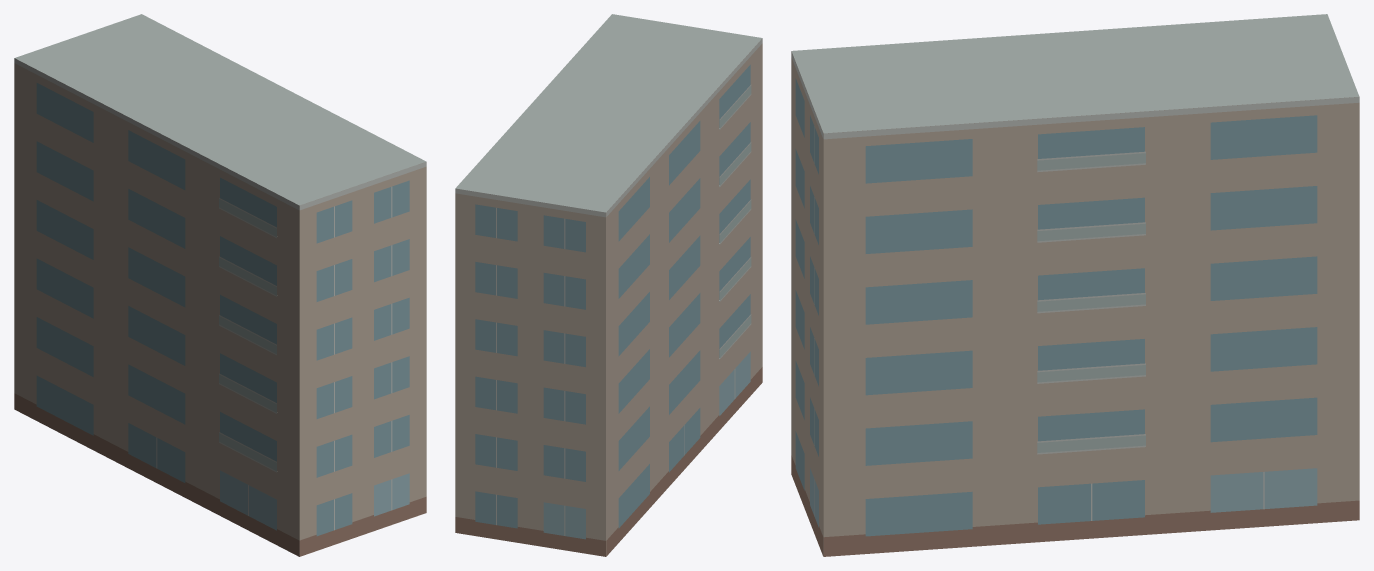
The model's file is survey-upis-32575530.glb.
3 renders of one model, left to right at view 1: azimuth 30°, elevation 25°; view 2: azimuth 150°, elevation 25°; view 3: azimuth 270°, elevation 25°, orthographic. The views are drawn at different scales.
Parts seen in each view (by area): view 1: survey-upis-32575530.tmp; view 2: survey-upis-32575530.tmp; view 3: survey-upis-32575530.tmp.
Part boxes in pixels (box(x1,y1,x2,y2)): survey-upis-32575530.tmp: box(14, 14, 426, 556); survey-upis-32575530.tmp: box(455, 14, 762, 556); survey-upis-32575530.tmp: box(791, 14, 1359, 556).
Bounding box in the file's own units: 10.41 × 17.2 × 20.92.
